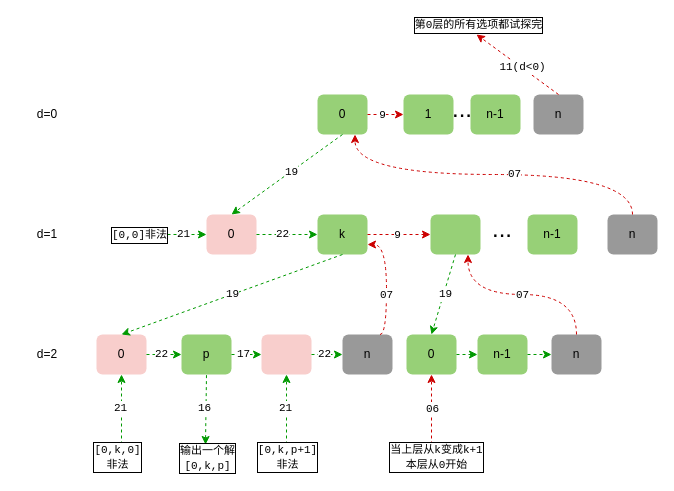
This 674x491 diagram has some shape labels left out. The box of each missing label's shape, as (x1, y1, x2, y2) in pixels:
k+1: (430, 214, 480, 254)
p+1: (261, 334, 311, 374)
